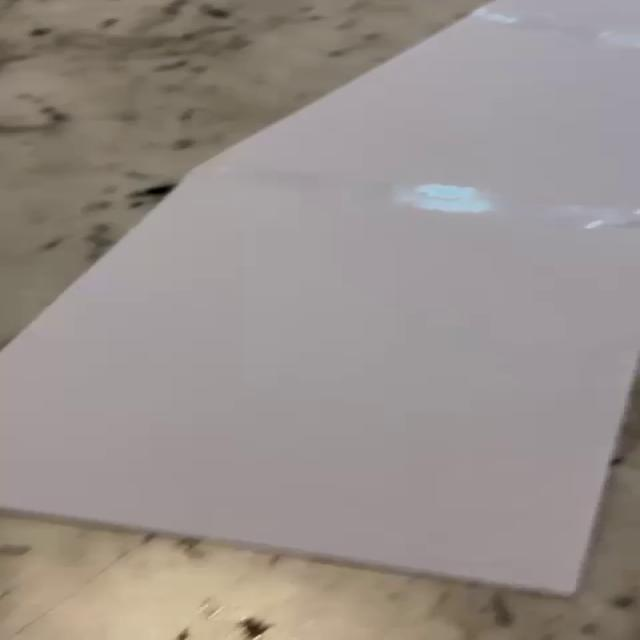road: (0, 0, 640, 599)
